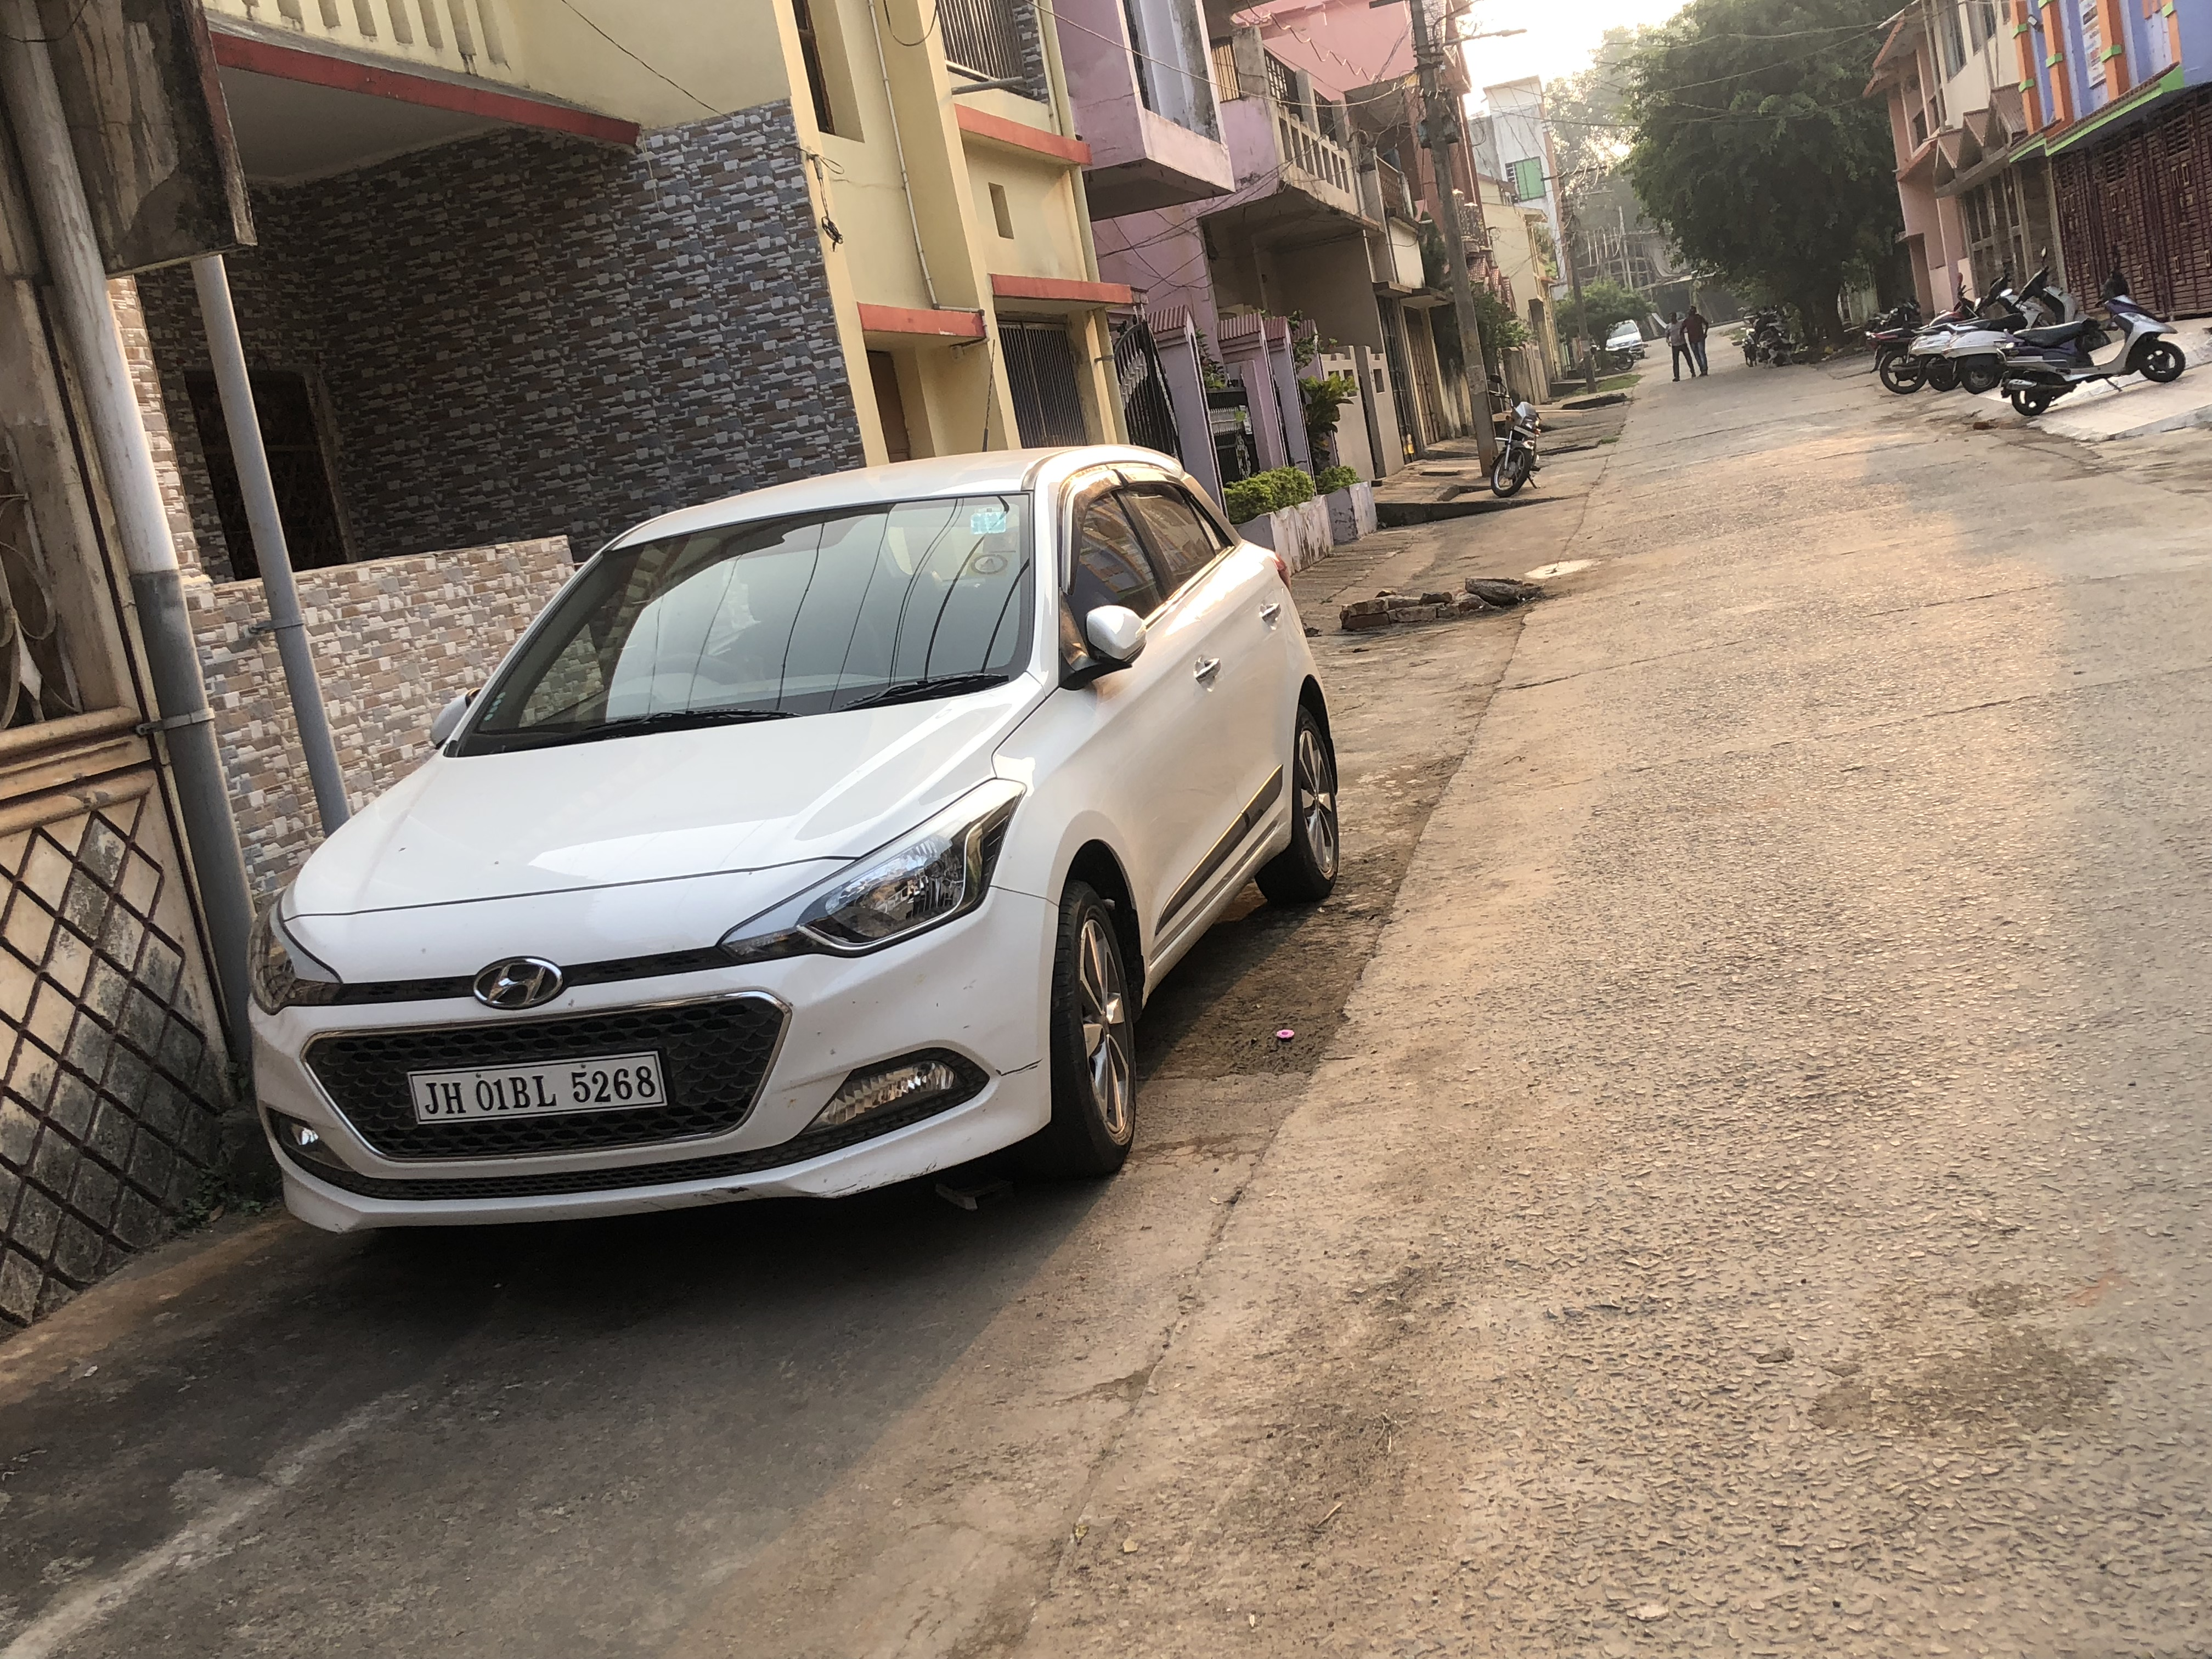licenseplate: (396, 1045, 670, 1127)
